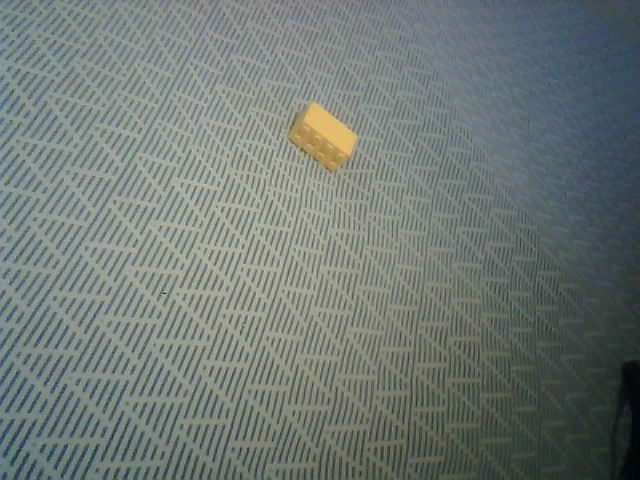lego: (287, 102, 358, 172)
